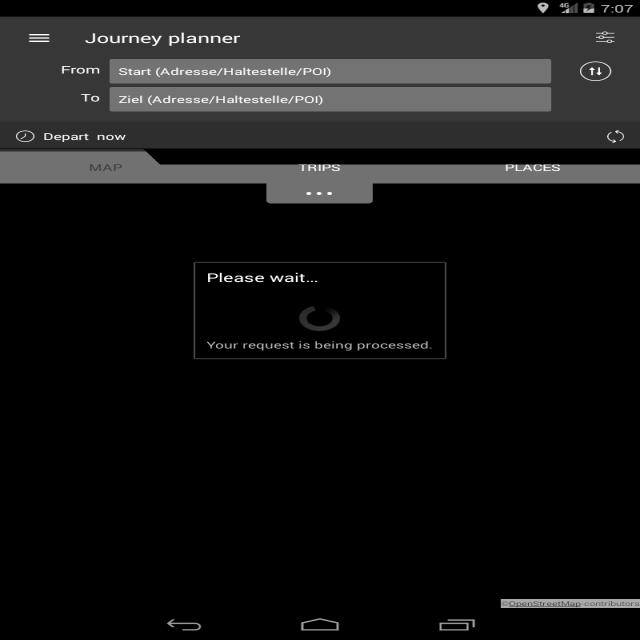EditText-: (105, 54, 563, 86), (105, 89, 563, 115)
ImageButton: (15, 26, 66, 49), (571, 58, 617, 82), (597, 125, 635, 148), (586, 28, 625, 47)
Spinner: (290, 302, 350, 332)
TextView: (196, 337, 442, 358), (78, 26, 256, 48), (194, 266, 323, 288), (502, 159, 570, 179), (75, 160, 138, 174)
